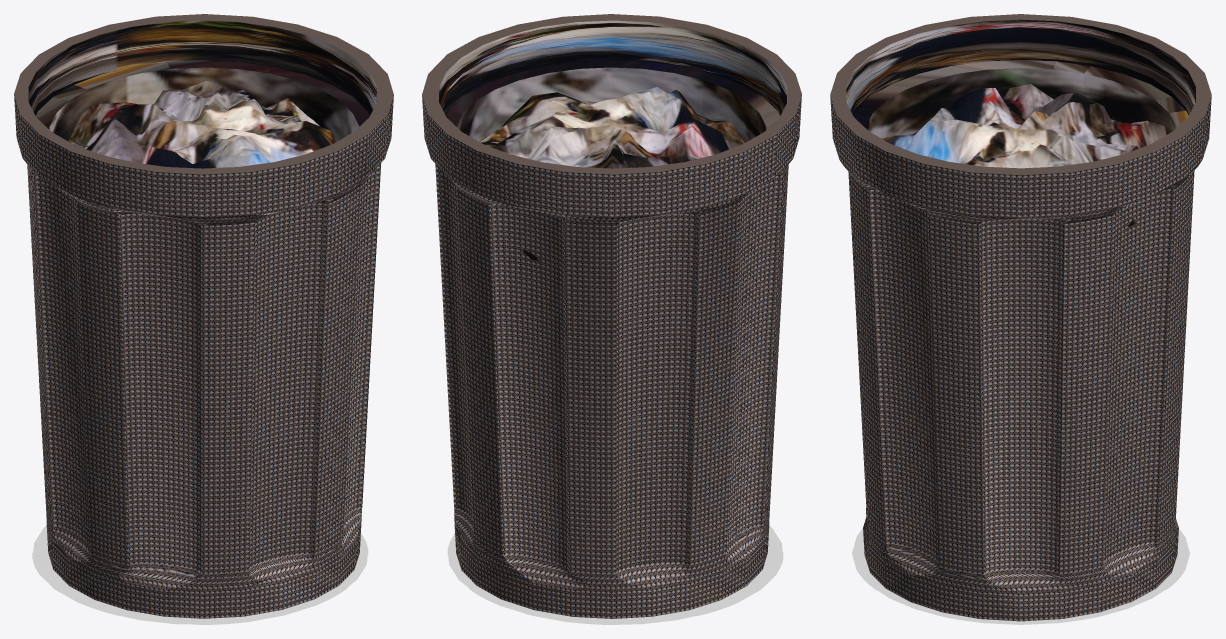
File: trash_can.FBX
The picture shows the model from 3 angles, left to right: view 1: azimuth 30°, elevation 25°; view 2: azimuth 150°, elevation 25°; view 3: azimuth 270°, elevation 25°; orthographic projection.
Parts seen in each view (by area): view 1: Loft01, Sphere01, Circle01, Circle02; view 2: Loft01, Sphere01, Circle01, Circle02; view 3: Loft01, Sphere01, Circle01.
Boxes of the visible parts, x1,y1,x2,y2 form: Loft01: (14, 14, 393, 618); Sphere01: (68, 81, 335, 168); Circle01: (32, 526, 368, 624); Circle02: (32, 534, 368, 624); Loft01: (422, 14, 801, 618); Sphere01: (479, 87, 744, 260); Circle01: (447, 526, 783, 624); Circle02: (447, 534, 783, 624); Loft01: (830, 14, 1211, 621); Sphere01: (881, 84, 1166, 227); Circle01: (852, 530, 1189, 624).
Bounding box in the file's own units: 68.79 × 92.02 × 68.79.
Materials: 1 (1 with a texture image).
